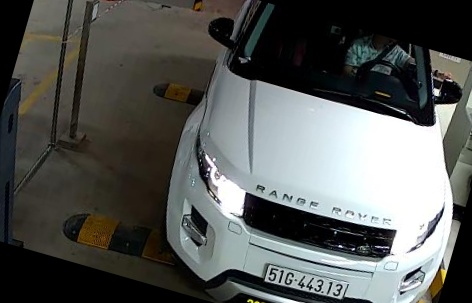plate: (258, 248, 353, 303)
